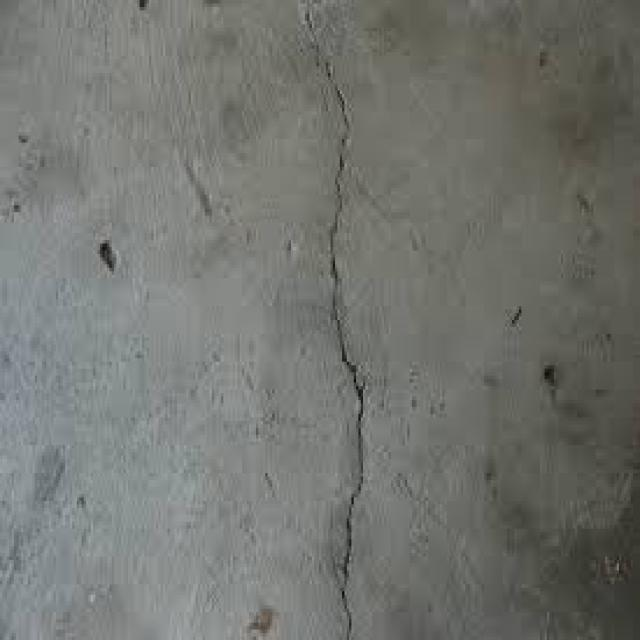crack: (326, 60, 364, 639)
